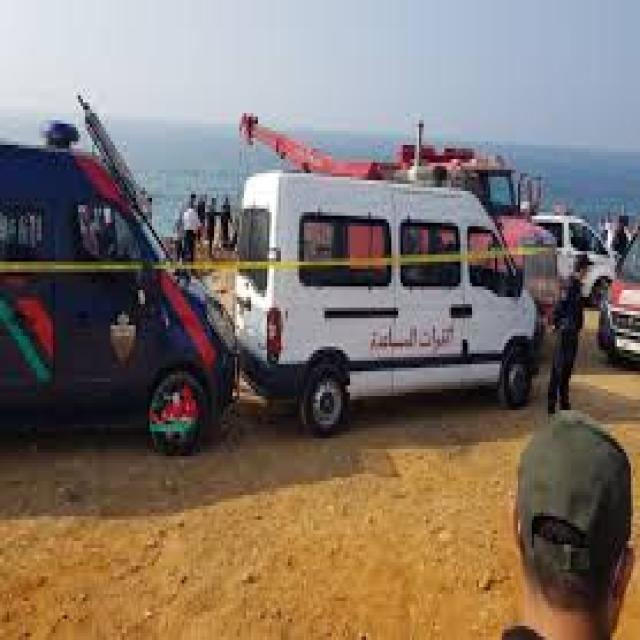police: (3, 131, 234, 448)
